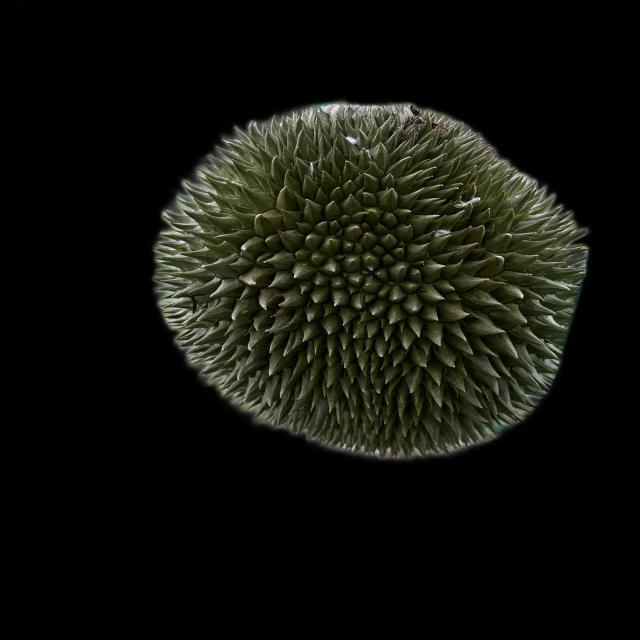immature: (150, 102, 594, 468)
